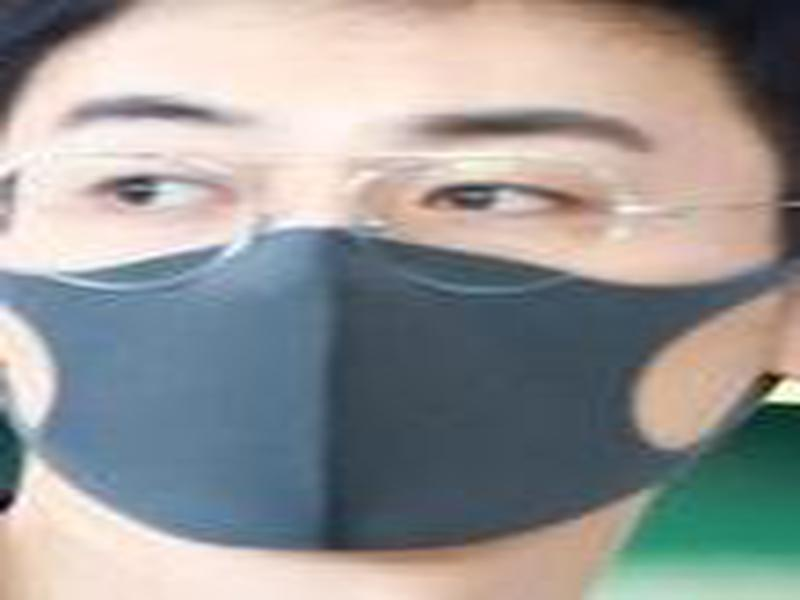with_mask: (3, 1, 800, 561)
